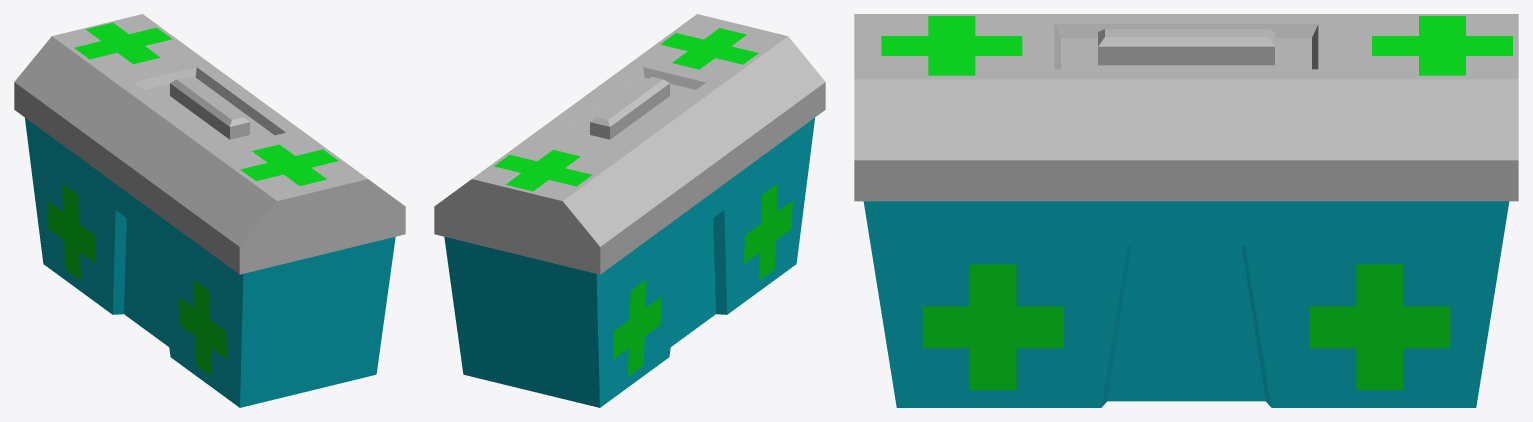
Rendered from HealthPickup_2.fbx.
3 views of the same model, side by side, from view 1: azimuth 30°, elevation 25°; view 2: azimuth 150°, elevation 25°; view 3: azimuth 270°, elevation 25° (orthographic). The views are drawn at different scales.
Parts seen in each view (by area): view 1: Cube.002; view 2: Cube.002; view 3: Cube.002.
Part boxes in pixels (left/top/right/bottom): Cube.002: left=14, top=14, right=405, bottom=407; Cube.002: left=434, top=14, right=825, bottom=407; Cube.002: left=854, top=14, right=1518, bottom=407.
Bounding box in the file's own units: 97.49 × 124 × 229.
